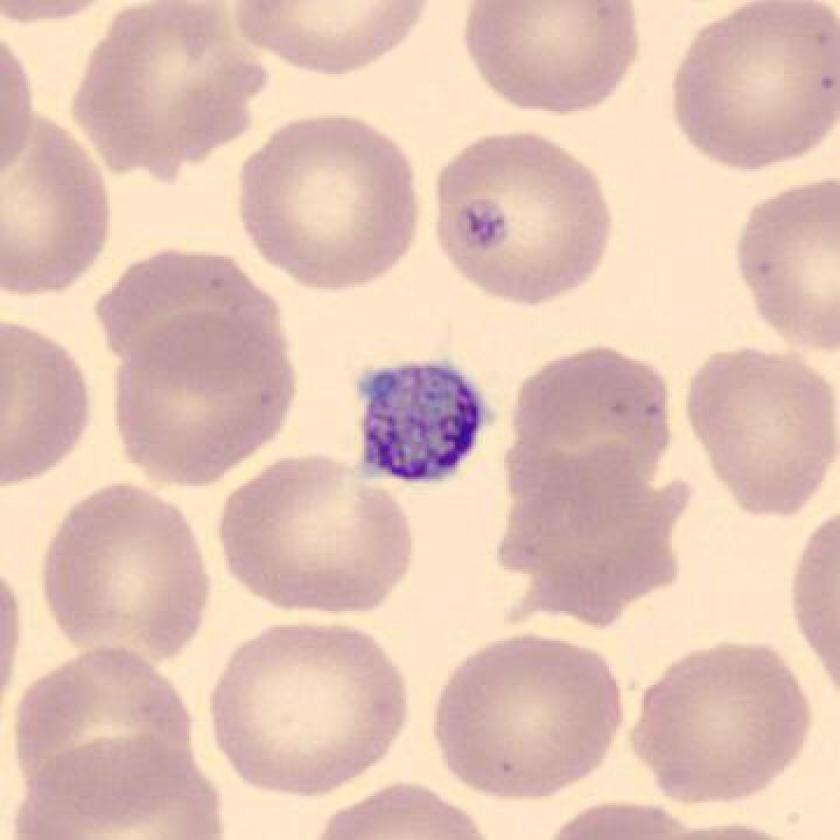platelets: (347, 351, 501, 499)
